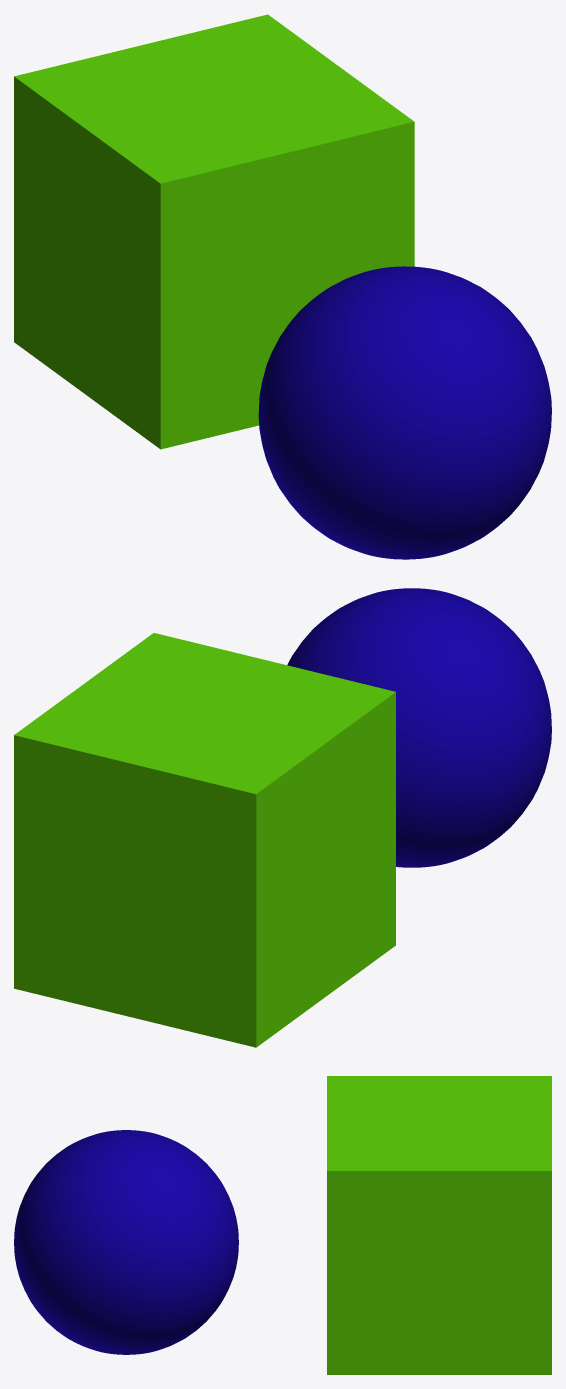
File: sample.obj
3 views of the same model, one above another, from view 1: azimuth 30°, elevation 25°; view 2: azimuth 150°, elevation 25°; view 3: azimuth 270°, elevation 25° (orthographic). The views are drawn at different scales.
Parts seen in each view (by area): view 1: Cube, Sphere; view 2: Cube, Sphere; view 3: Cube, Sphere.
Boxes of the visible parts, <box> form: Cube: <box>14,14,414,449</box>; Sphere: <box>258,266,551,559</box>; Cube: <box>14,633,395,1047</box>; Sphere: <box>287,588,551,867</box>; Cube: <box>327,1076,551,1374</box>; Sphere: <box>14,1130,238,1354</box>.
Bounding box in the file's own units: 2.1 × 2.21 × 4.78.
